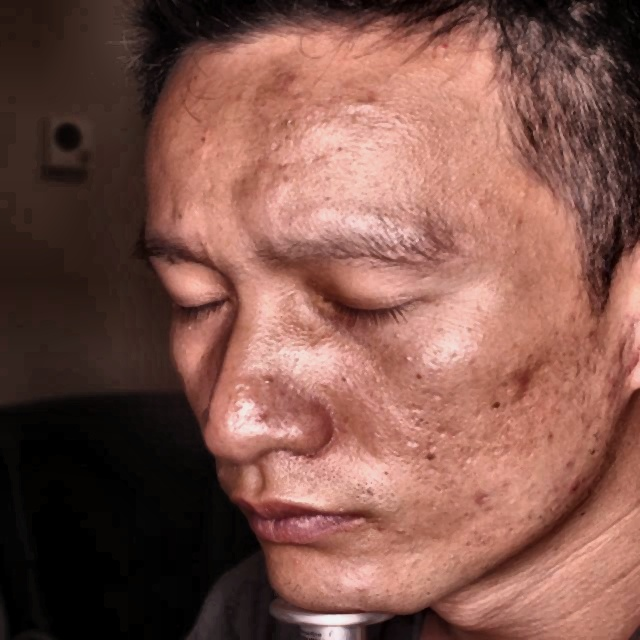comedone: (494, 359, 547, 404), (280, 69, 312, 96)
